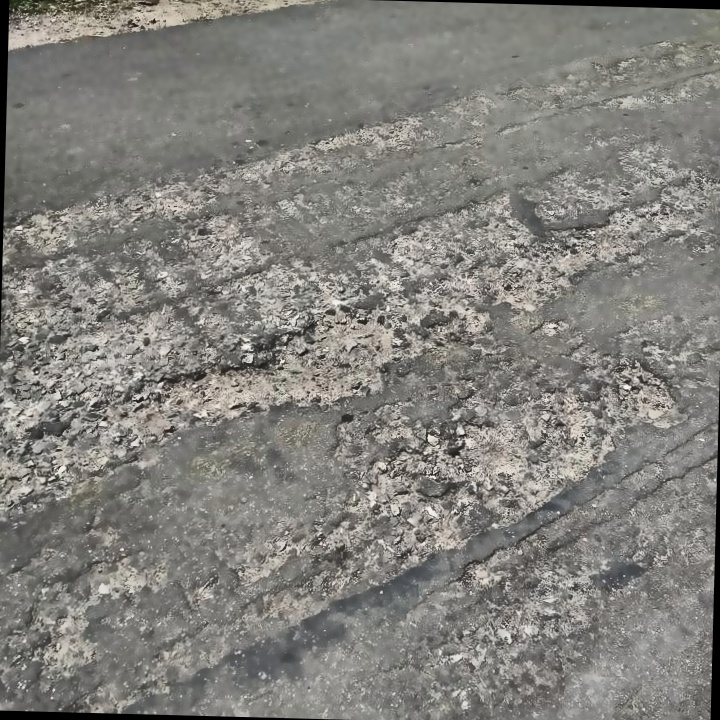pothole: (156, 305, 401, 433), (482, 200, 644, 309), (607, 360, 683, 425)
